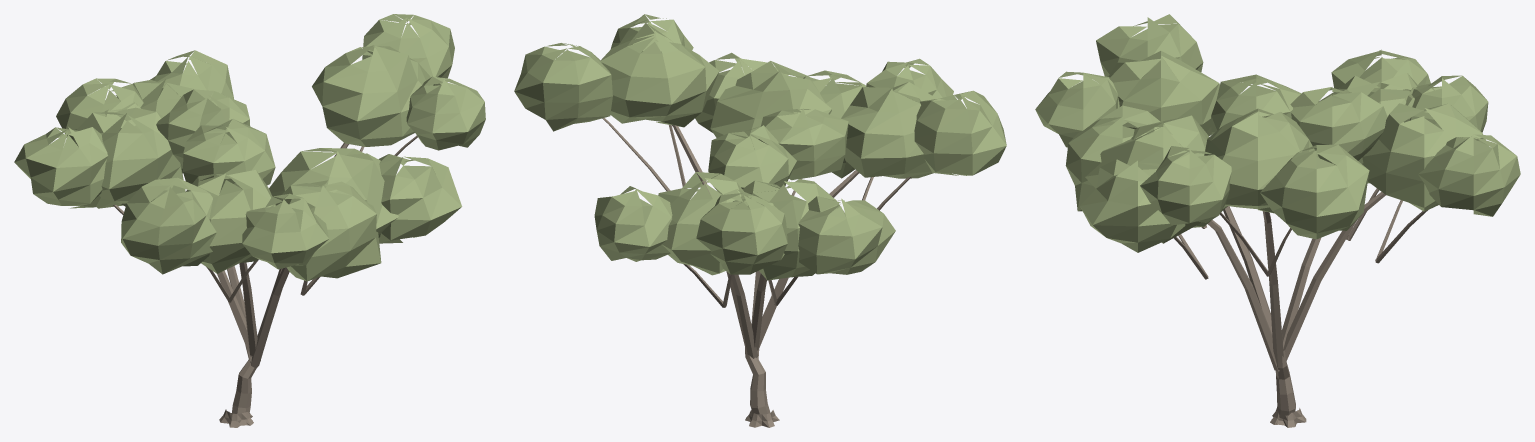
File: apple.glb
3 views of the same model, side by side, from view 1: azimuth 30°, elevation 25°; view 2: azimuth 150°, elevation 25°; view 3: azimuth 270°, elevation 25° (orthographic). The views are drawn at different scales.
Visible parts, largest first — view 1: crab-apple-gnarled; view 2: crab-apple-gnarled; view 3: crab-apple-gnarled.
Part boxes in pixels (x1,y1,x2,y2): crab-apple-gnarled: (14,14,485,427); crab-apple-gnarled: (514,14,1006,427); crab-apple-gnarled: (1035,14,1520,427).
Size of the model in its own units: 8.6 by 7.1 by 8.33.
